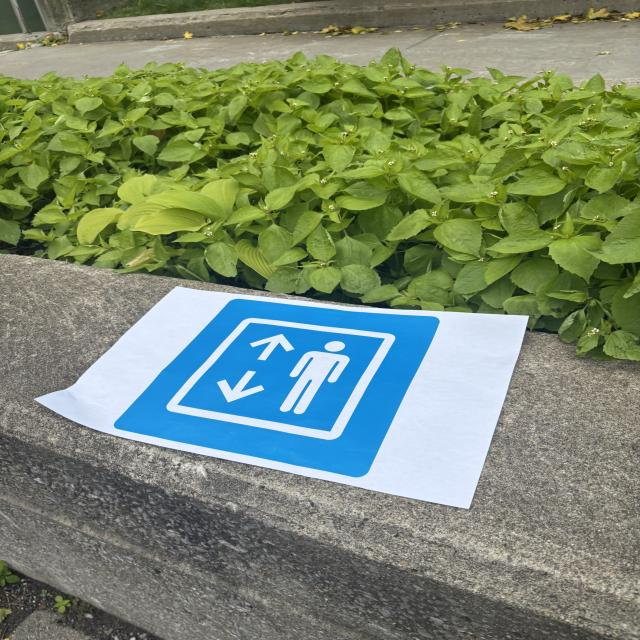elevator: (109, 296, 438, 482)
